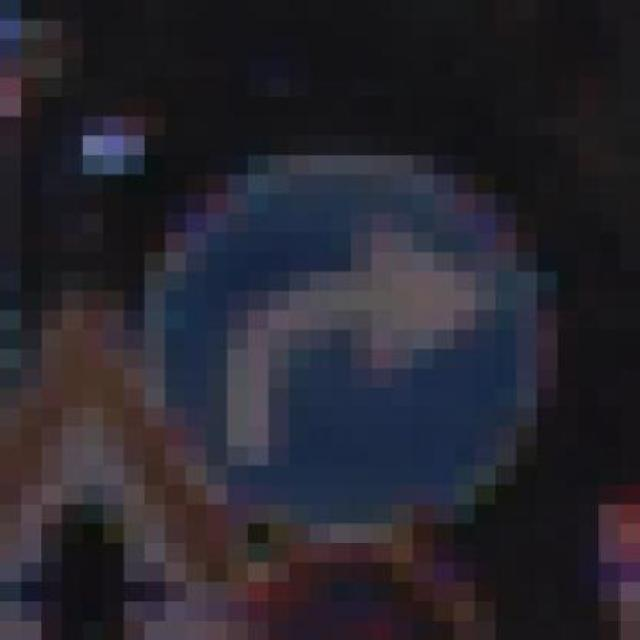Turn right ahead: (124, 135, 558, 543)
